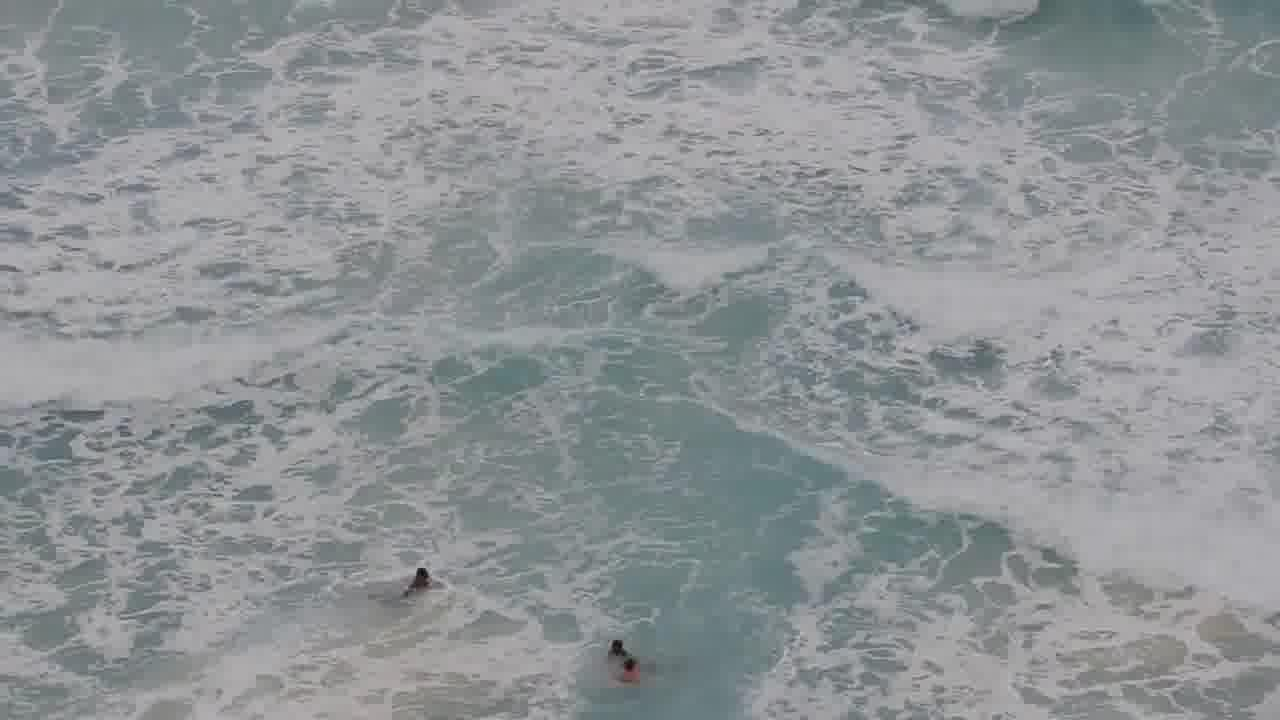human: (389, 557, 446, 598), (593, 629, 644, 661), (608, 647, 649, 685)
